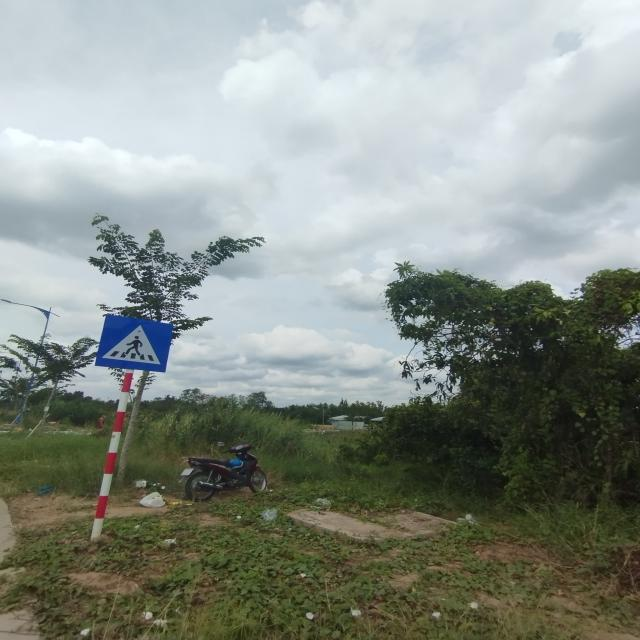Giao_Nhau_Duong_Uu_Tien: (95, 314, 174, 372)
